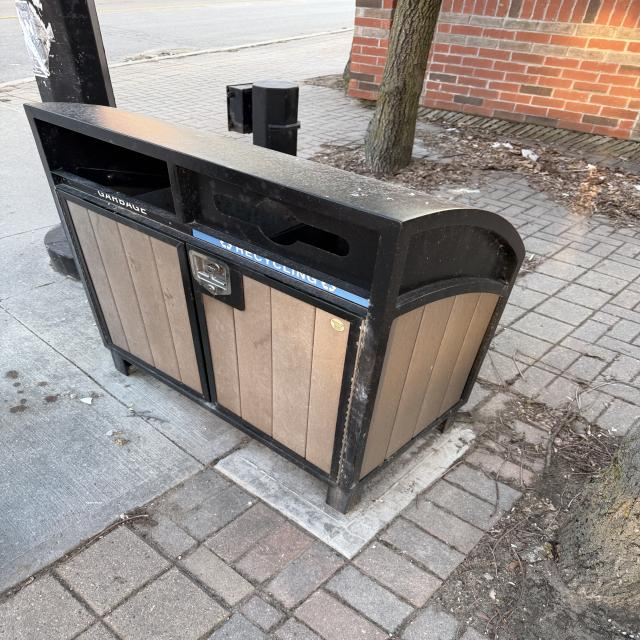Dustbin: (21, 101, 525, 512)
